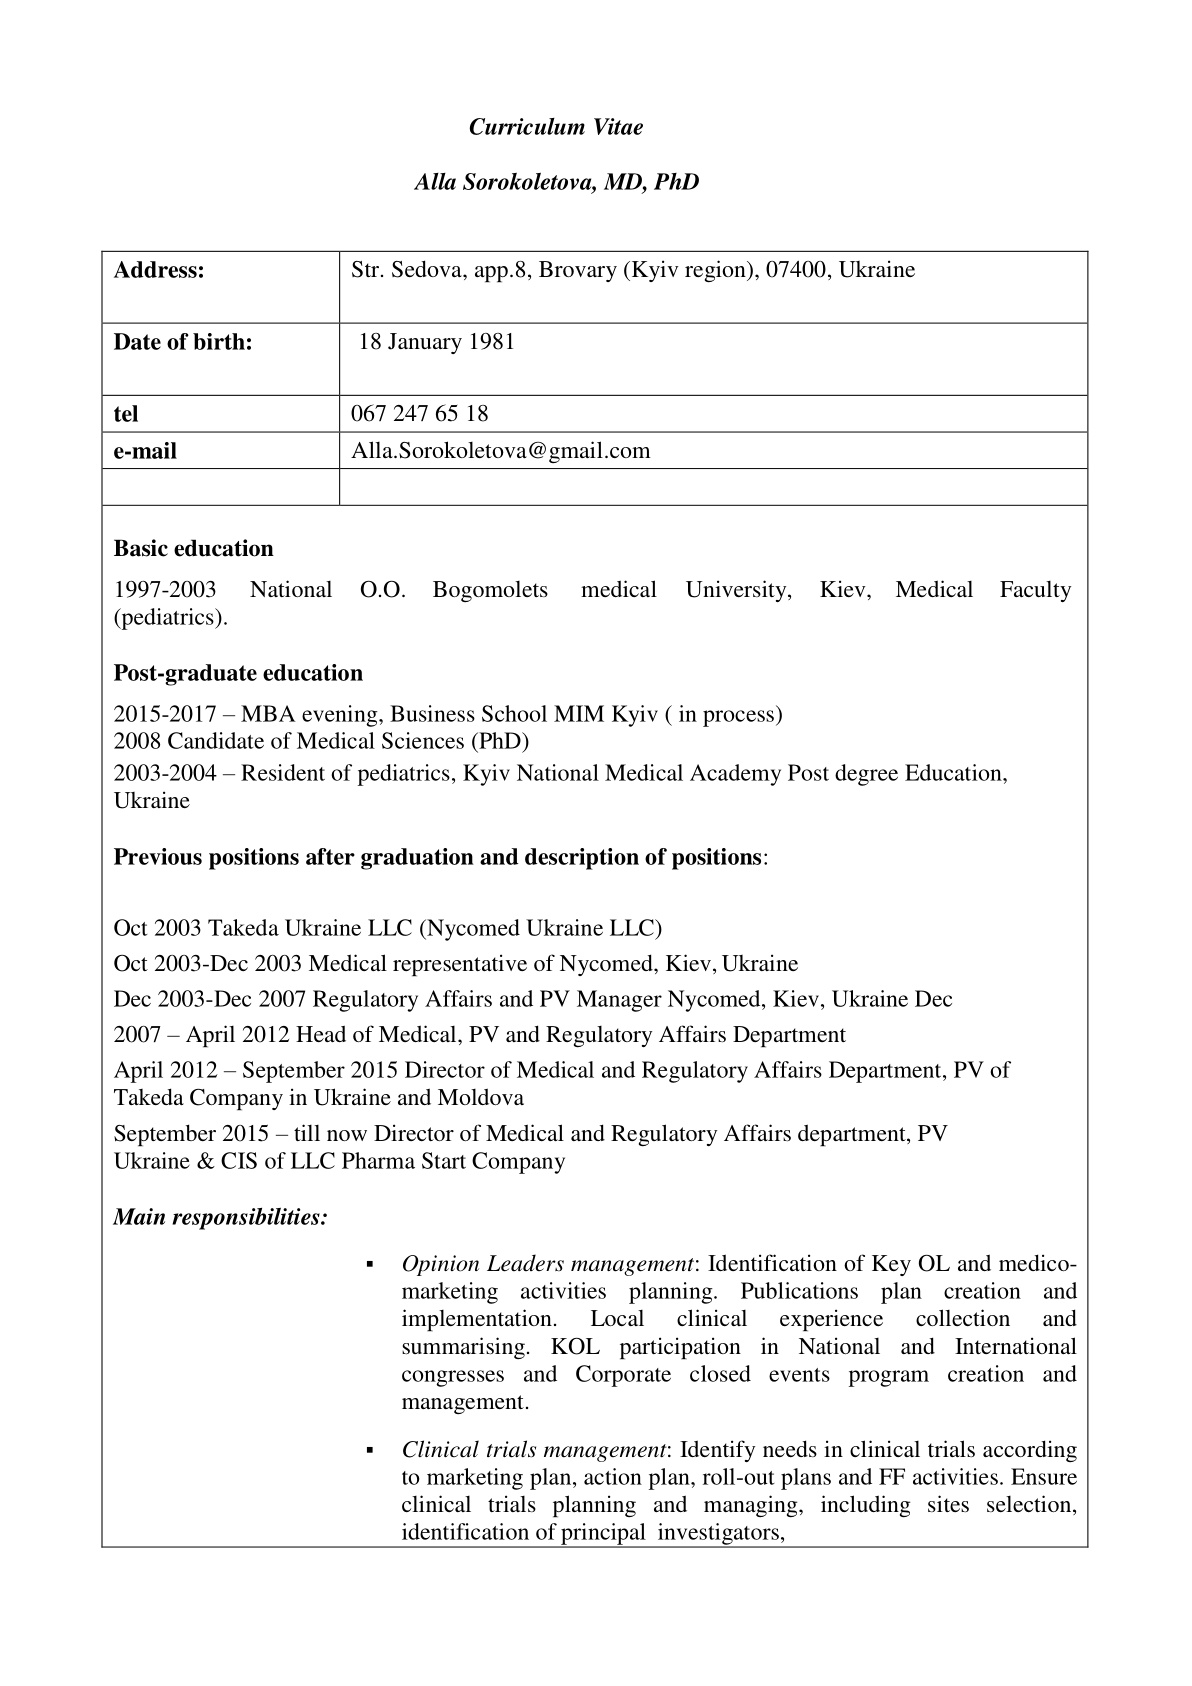merged_cells: (99, 249, 1089, 1548)
